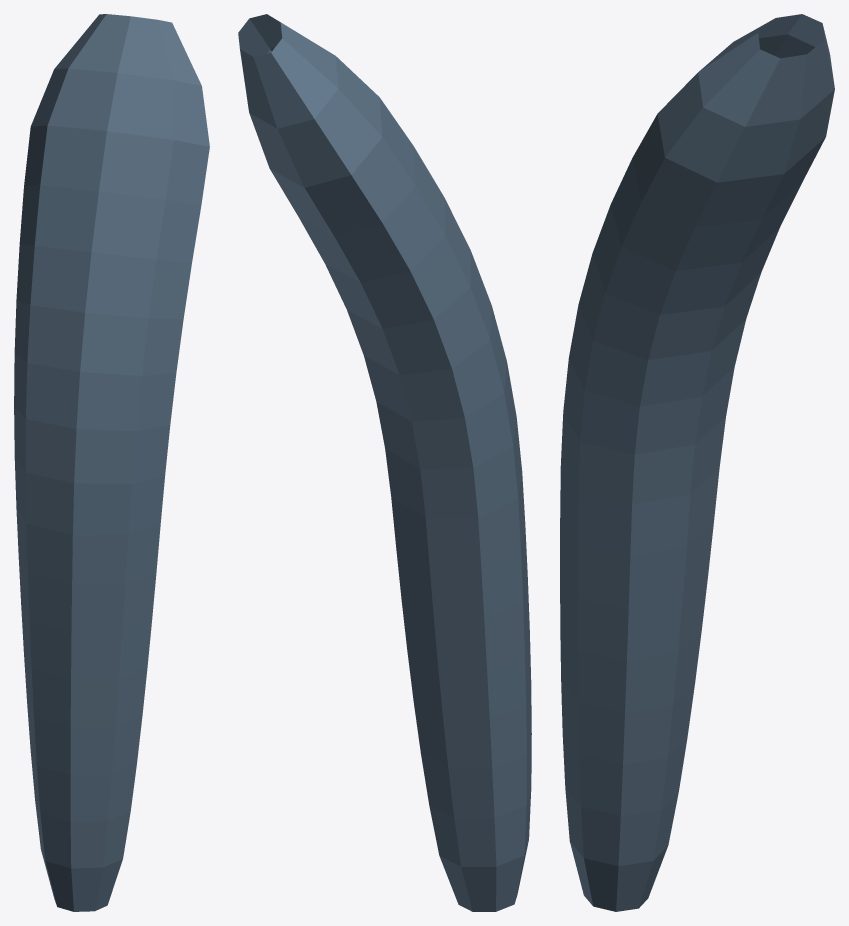
File: plume_low.glb
3 renders of one model, left to right at view 1: azimuth 30°, elevation 25°; view 2: azimuth 150°, elevation 25°; view 3: azimuth 270°, elevation 25°, orthographic. The views are drawn at different scales.
Parts seen in each view (by area): view 1: plume_low; view 2: plume_low; view 3: plume_low.
Part boxes in pixels (x1,y1,x2,y2): plume_low: [14, 14, 209, 911]; plume_low: [238, 14, 531, 911]; plume_low: [560, 14, 834, 911].
Bounding box in the file's own units: 2.13 × 8.12 × 2.13.
